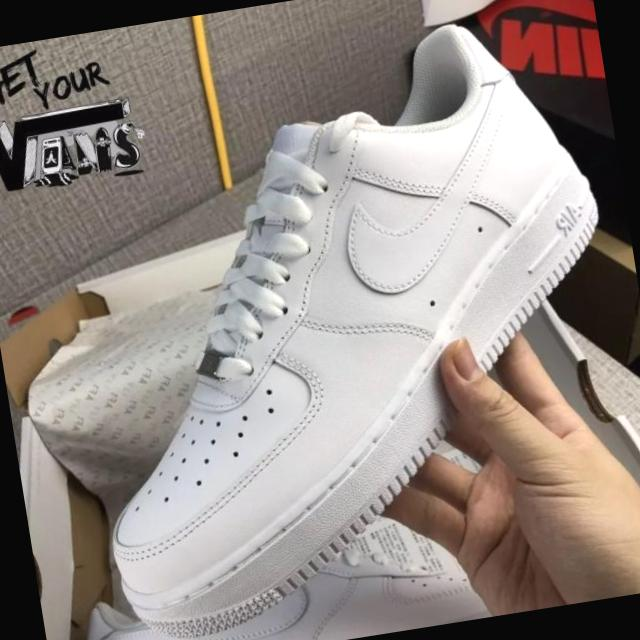nike_original_airforce: (37, 4, 640, 640)
